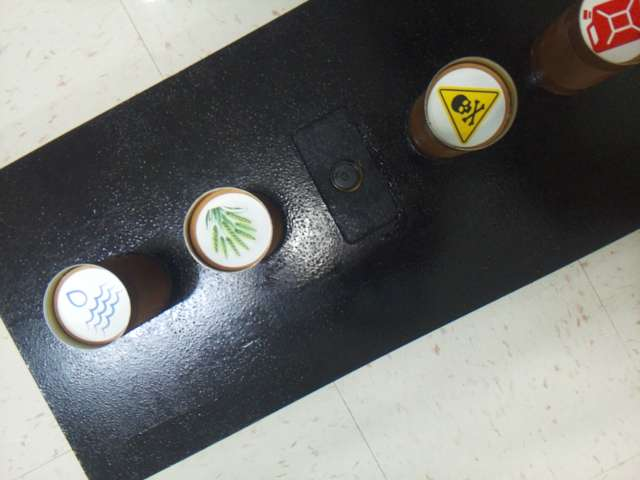gasoline: (580, 0, 639, 63)
toxic_fluid: (427, 69, 504, 149)
water_barrel: (57, 267, 130, 342)
wheat_barrel: (196, 194, 271, 266)
